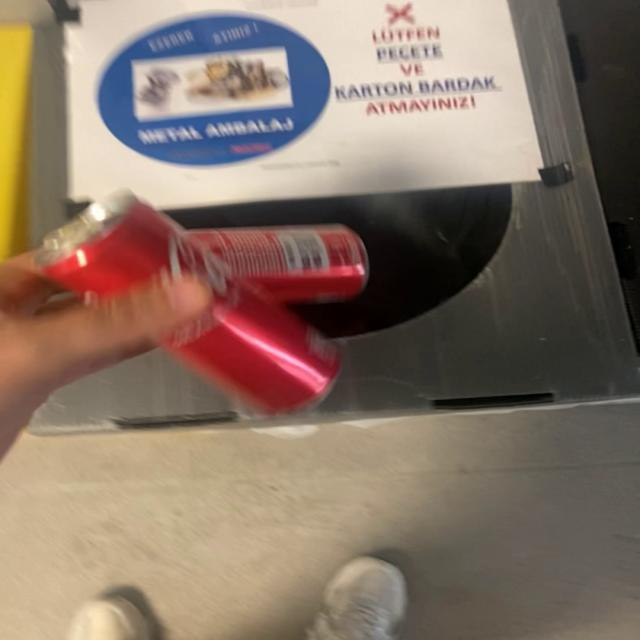bin: (33, 0, 638, 421), (33, 354, 251, 432)
metal: (34, 190, 367, 412)
